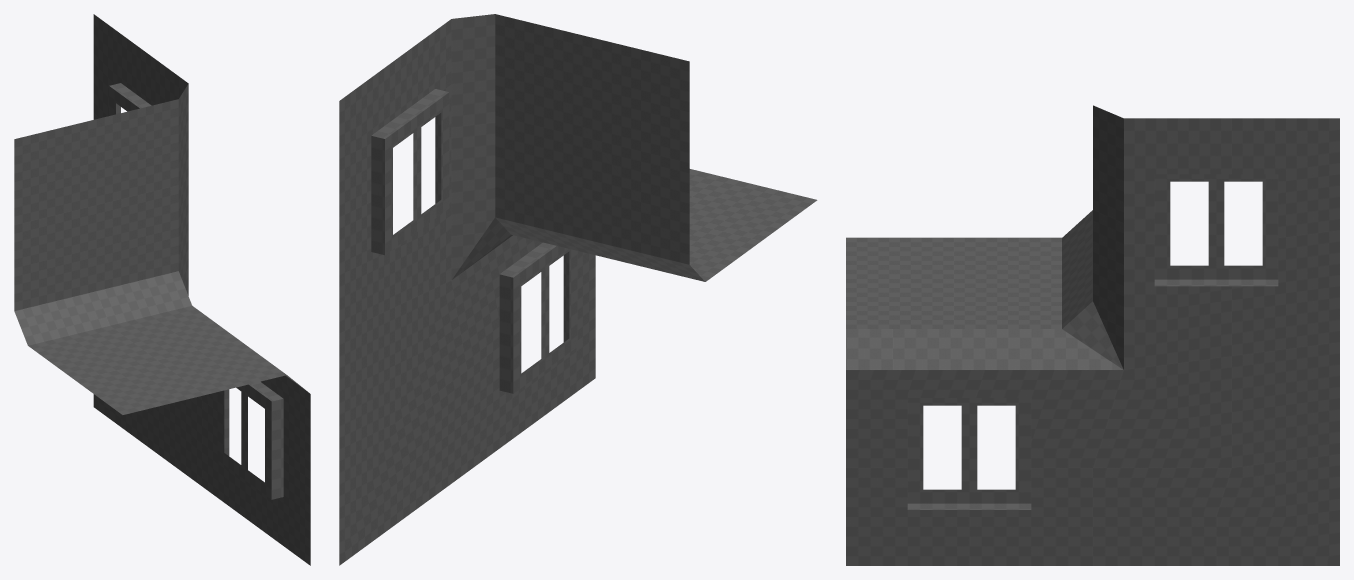
The picture shows the model from 3 angles, left to right: view 1: azimuth 30°, elevation 25°; view 2: azimuth 150°, elevation 25°; view 3: azimuth 270°, elevation 25°; orthographic projection. The views are drawn at different scales.
Visible parts, largest first — view 1: CubeDownBackLeft2V2; view 2: CubeDownBackLeft2V2; view 3: CubeDownBackLeft2V2.
Part boxes in pixels (<box>): CubeDownBackLeft2V2: <box>14,14,310,565</box>; CubeDownBackLeft2V2: <box>339,14,817,565</box>; CubeDownBackLeft2V2: <box>846,105,1339,565</box>.
Size of the model in its own units: 2 by 4 by 4.
Materials: 1 (1 with a texture image).
